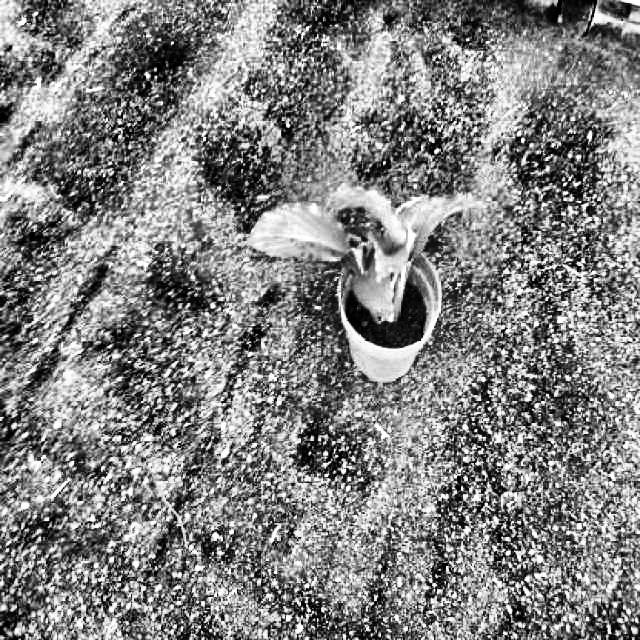plants: (244, 179, 486, 324)
